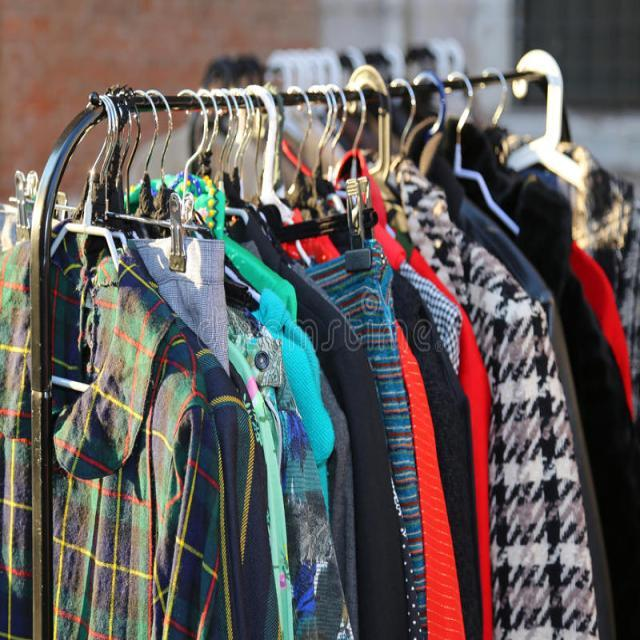clothes: (394, 152, 640, 631), (274, 236, 533, 640), (119, 215, 331, 640), (5, 229, 206, 640)
